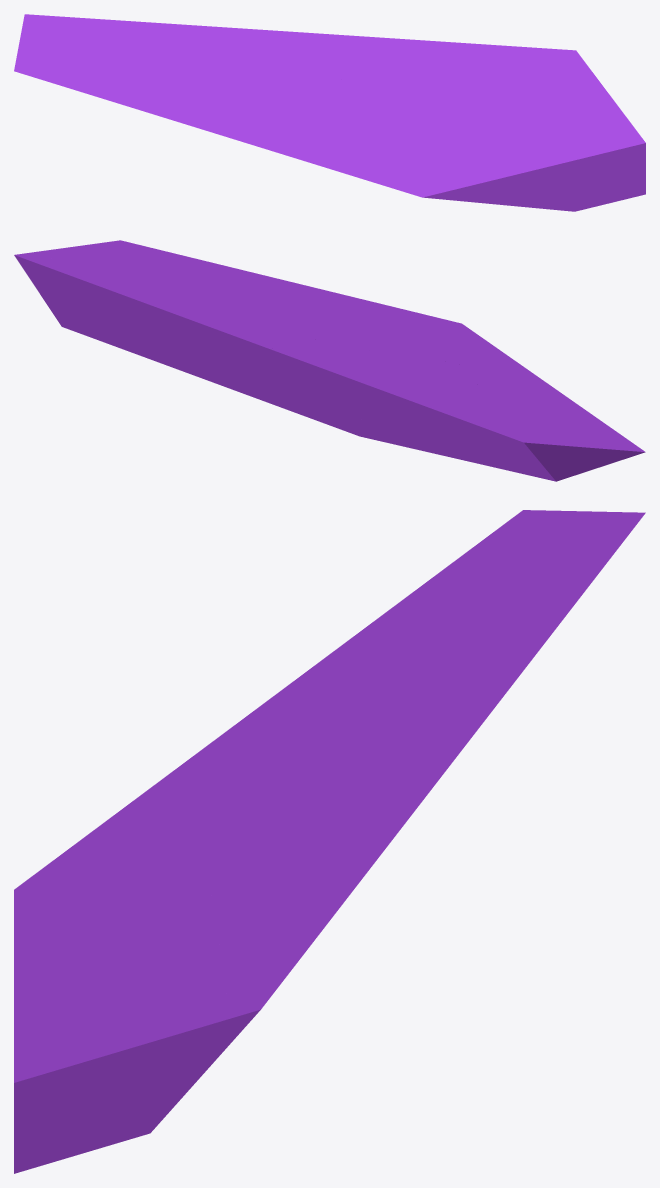
Rendered from Window_145_2_chunks.fbx.
3 renders of one model, top to bottom at view 1: azimuth 30°, elevation 25°; view 2: azimuth 150°, elevation 25°; view 3: azimuth 270°, elevation 25°, orthographic. The views are drawn at different scales.
Parts seen in each view (by area): view 1: Window_145_2_1, Window_145_2_3, Window_145_2_0, Window_145_2_2, Window_145_2_6, Window_145_2_4; view 2: Window_145_2_3, Window_145_2_1, Window_145_2_2, Window_145_2_0, Window_145_2_4, Window_145_2_6; view 3: Window_145_2_1, Window_145_2_3, Window_145_2_0, Window_145_2_2, Window_145_2_6, Window_145_2_4.
Boxes of the visible parts, x1,y1,x2,y2 form: Window_145_2_1: (421, 62, 645, 211); Window_145_2_3: (14, 14, 261, 119); Window_145_2_0: (227, 94, 484, 201); Window_145_2_2: (300, 32, 584, 111); Window_145_2_6: (169, 65, 332, 136); Window_145_2_4: (254, 29, 354, 101); Window_145_2_3: (311, 364, 645, 481); Window_145_2_1: (20, 240, 365, 403); Window_145_2_2: (14, 253, 332, 392); Window_145_2_0: (296, 300, 549, 384); Window_145_2_4: (258, 336, 376, 438); Window_145_2_6: (368, 344, 574, 402); Window_145_2_1: (14, 878, 246, 1173); Window_145_2_3: (329, 510, 645, 730); Window_145_2_0: (14, 707, 283, 943); Window_145_2_2: (209, 761, 453, 1025); Window_145_2_6: (258, 654, 399, 798); Window_145_2_4: (279, 719, 485, 816).
Size of the model in its own units: 996 by 307 by 631.
